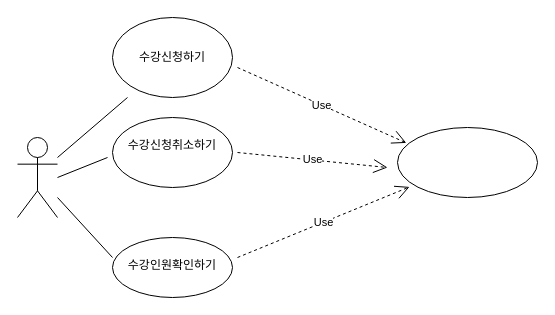
Image size: 555x315. Some labels were removed from this diagram. Here are the shapes that lost their labels. From the top down, the centre of each, then its label:
[37,177]: 학생
[467,162]: 로그인
